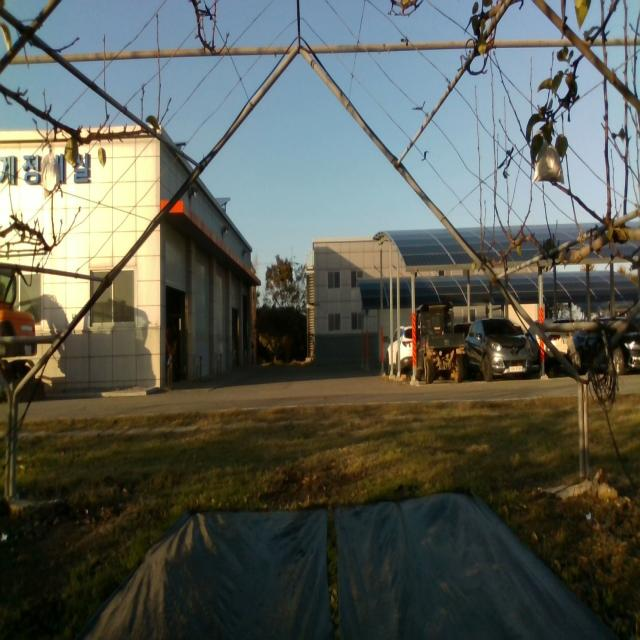pearbags: (531, 142, 565, 186), (40, 150, 61, 200)
